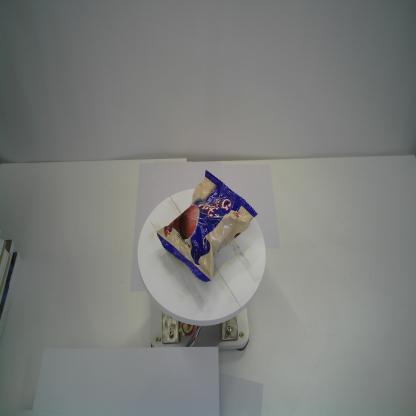Dessert: (155, 167, 259, 284)
